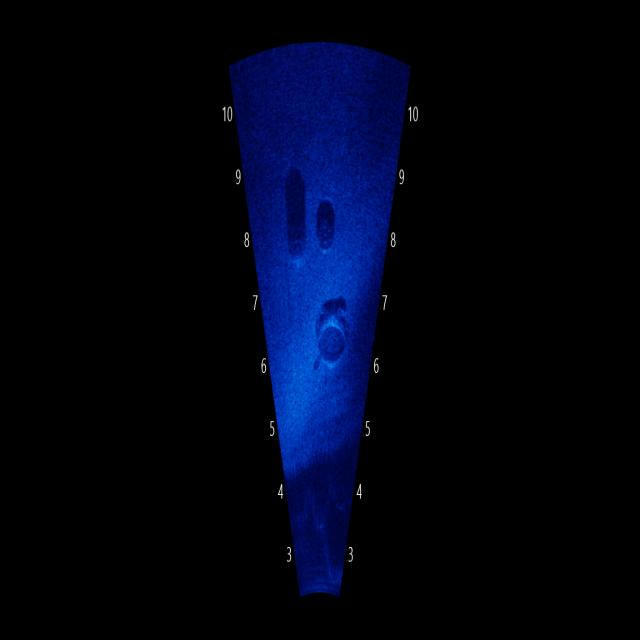circle: (301, 298, 362, 385), (315, 180, 351, 264), (283, 221, 315, 293)
